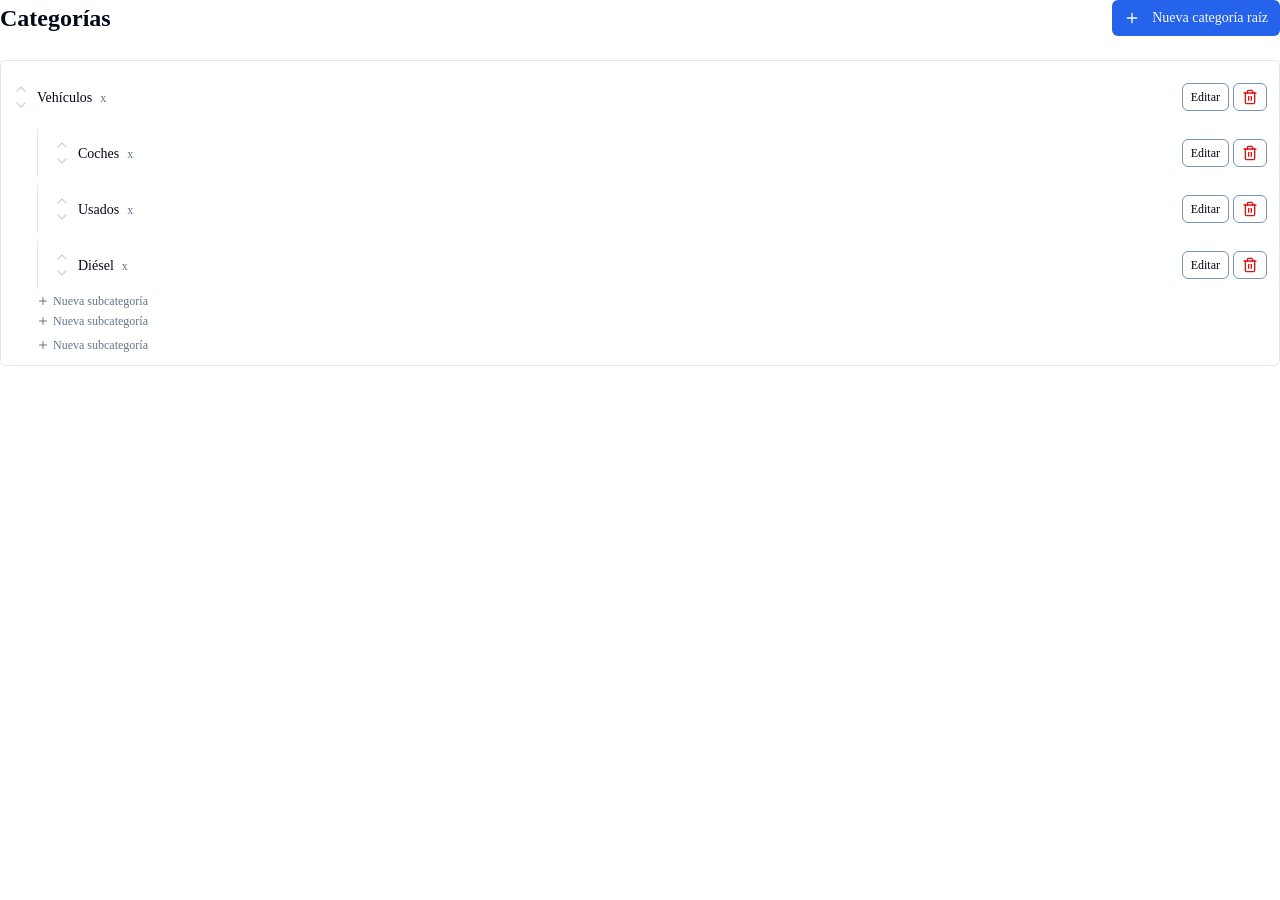
Test: Admin categorías — moderación previa (M5) › la herencia alcanza al NIVEL 4, no sólo al hijo directo
Expected: the text "Diésel" is shown, [78,258,114,273]
What coordinates should you click on to do the following:
click the button "Editar" in the row of "Diésel"
I would click on:
 (1205, 265)
Its box is [1182,251,1229,279].
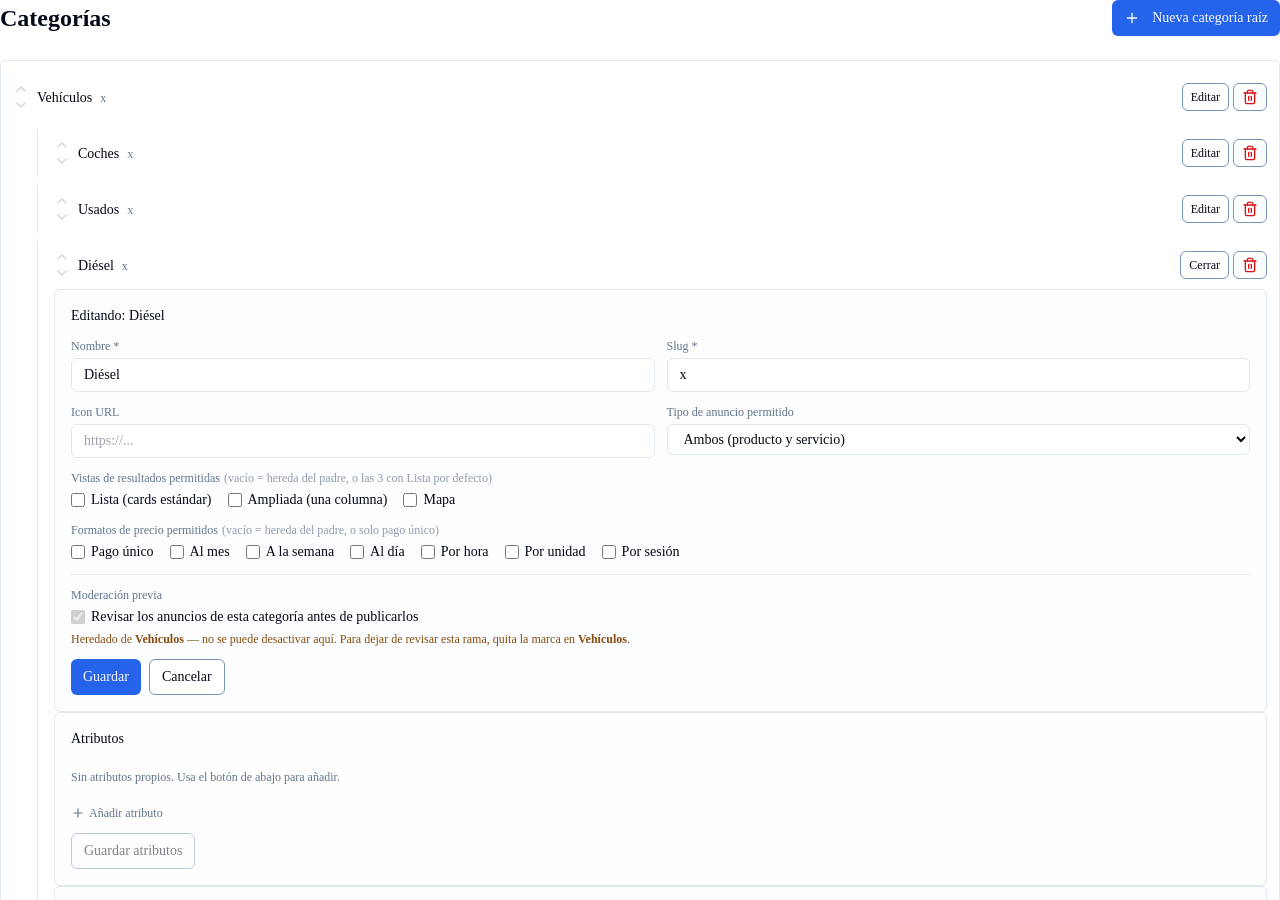
Result: the checkbox with test id "requires-review-checkbox" is checked at [71,610,85,624]
Result: the element with test id "requires-review-inherited" shows "Vehículos" at [135,632,184,646]
